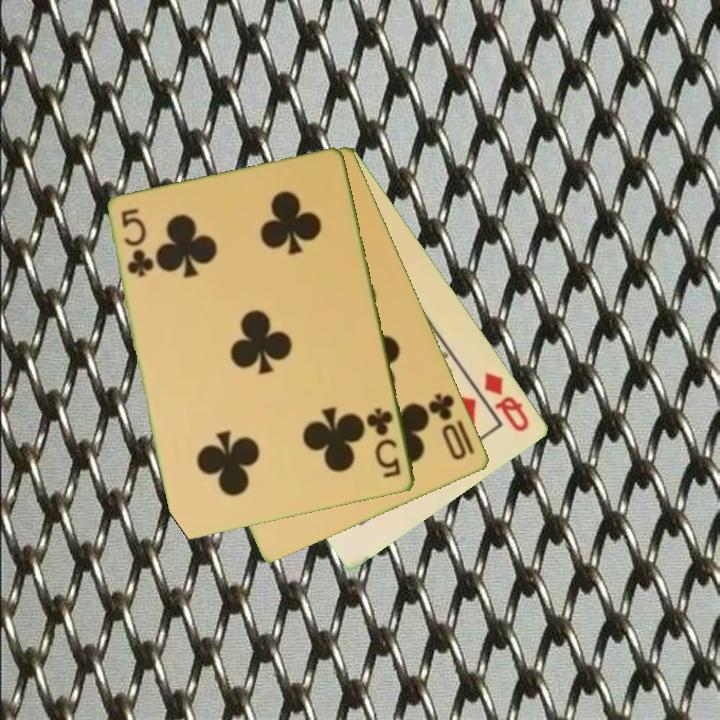10c: (425, 390, 470, 464)
5c: (363, 404, 404, 482), (118, 205, 155, 280)
Qd: (481, 368, 533, 435)
